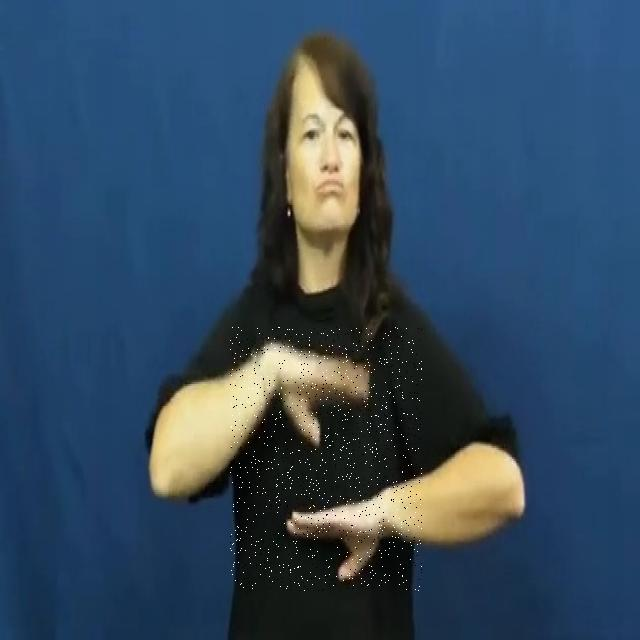enjoy: (230, 327, 422, 591)
